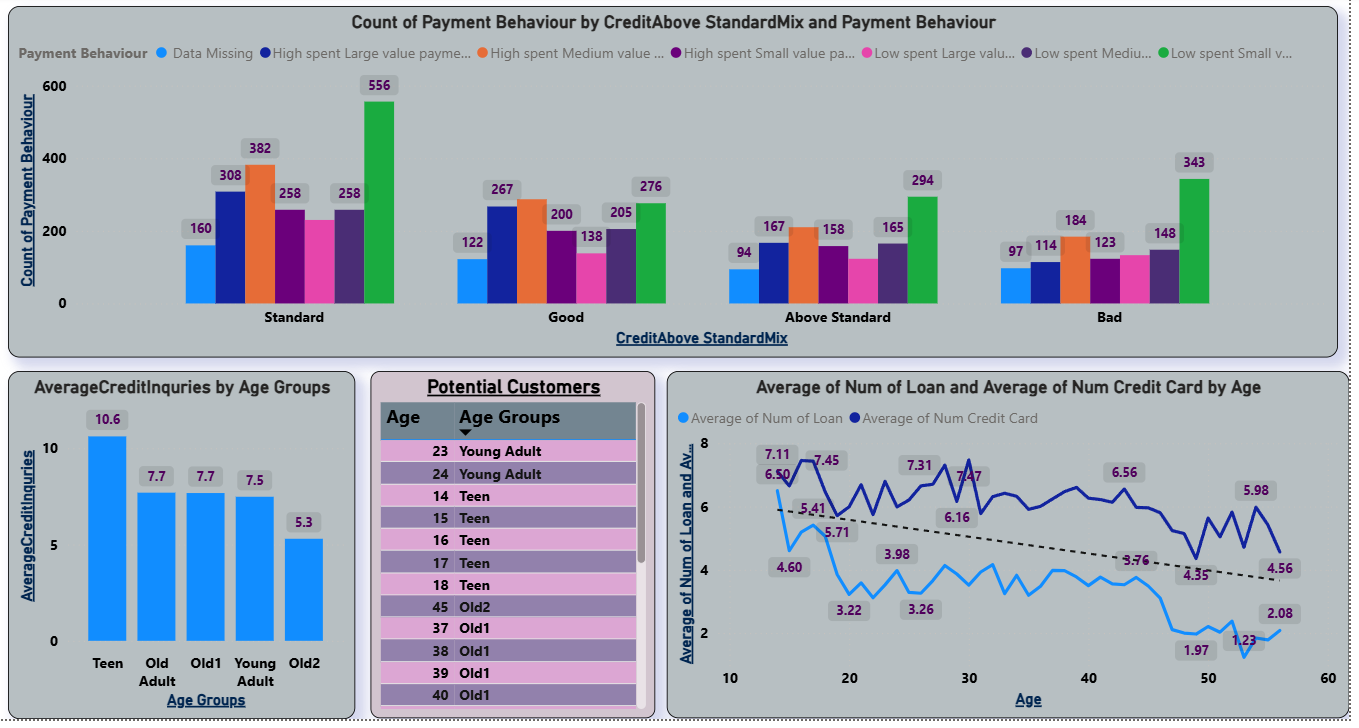

What the dashboard file says about the page in this screenshot:
{"tool":"powerbi","page":{"name":"Page 2","canvas":[1280,685],"ordinal":1},"visuals":[{"type":"clusteredColumnChart","fields":{"Category":["df.CreditAbove StandardMix"],"Y":["CountNonNull(df.Payment Behaviour)"],"Series":["df.Payment Behaviour"]},"box":[9.5,9.5,1259.2,332.6],"z":0},{"type":"columnChart","fields":{"Category":["df.Age Groups"],"Y":["Table.AverageCreditInquries"]},"box":[10,354.5,328.4,329.6],"z":1000},{"type":"tableEx","title":"Potential Customers","fields":{"Values":["df.Age","df.Age Groups"]},"box":[352.7,355,269.8,329],"z":2000},{"type":"lineChart","fields":{"Category":["df.Age"],"Y":["Avg(df.Num of Loan)","Avg(df.Num Credit Card)"]},"box":[633.2,355,646.2,329],"z":3000}]}

Visuals, with their boxes in screenshot pixels (x1, y1, x2, y2), scaled from the page's 1280x685 canvas onto the 1359x728 screenshot:
clusteredColumnChart - df.CreditAbove StandardMix x CountNonNull(df.Payment Behaviour): bbox=[10, 10, 1347, 364]
columnChart - df.Age Groups x Table.AverageCreditInquries: bbox=[11, 377, 359, 727]
"Potential Customers" tableEx: bbox=[374, 377, 661, 727]
lineChart - df.Age x Avg(df.Num of Loan): bbox=[672, 377, 1358, 727]
